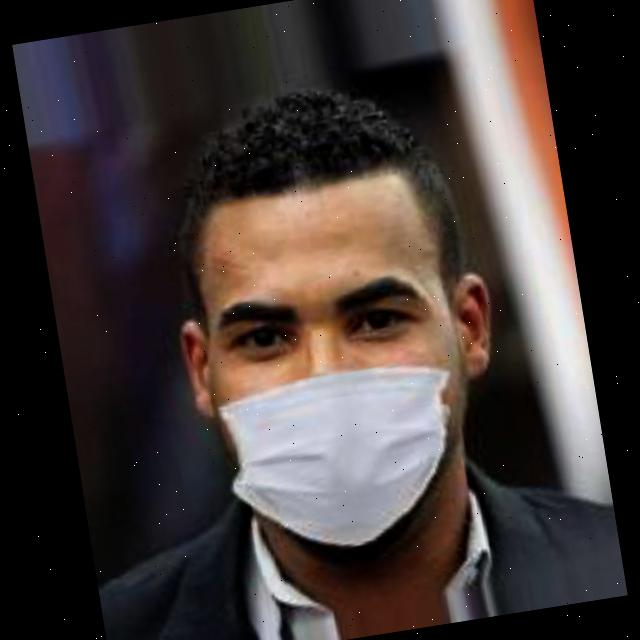suspicion: (119, 59, 522, 574)
